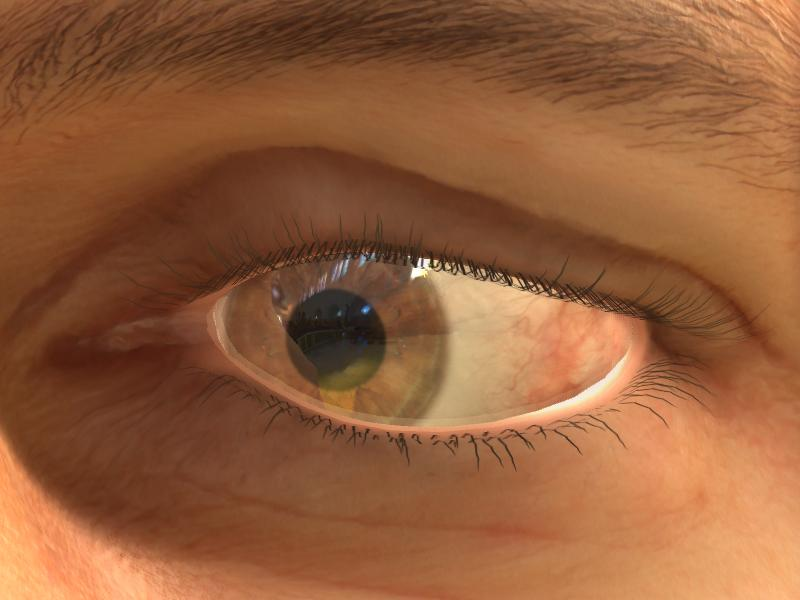eye: (225, 251, 451, 430)
